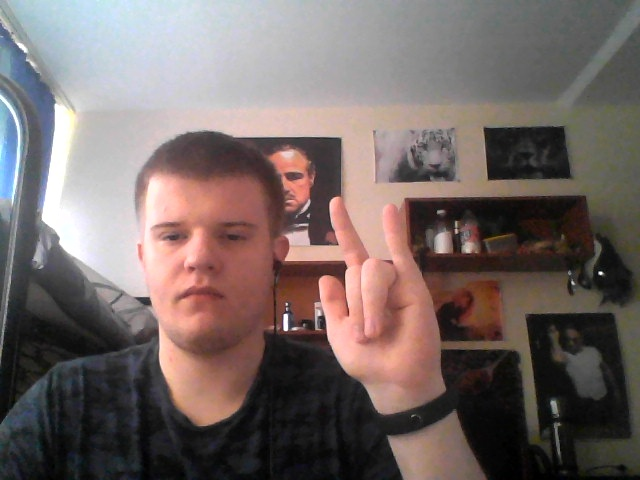iloveyou: (313, 194, 443, 387)
